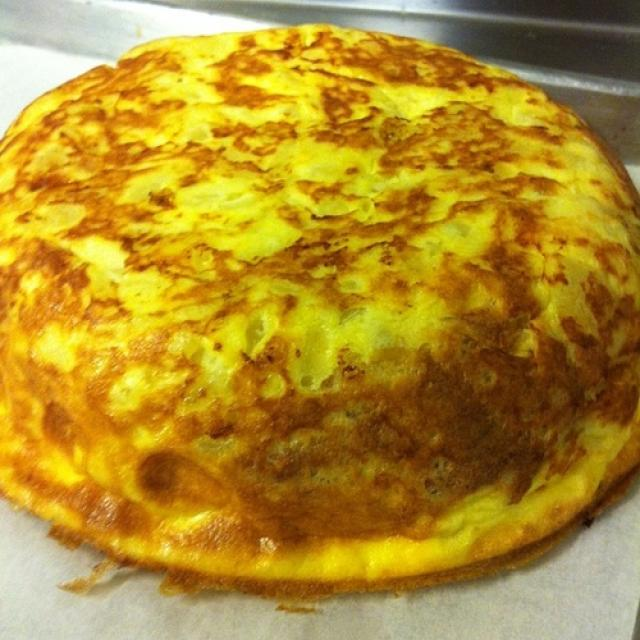面包点心: (9, 13, 626, 621)
